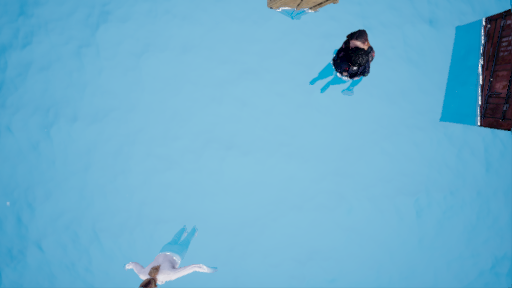person: (319, 27, 384, 102), (125, 227, 202, 288)
